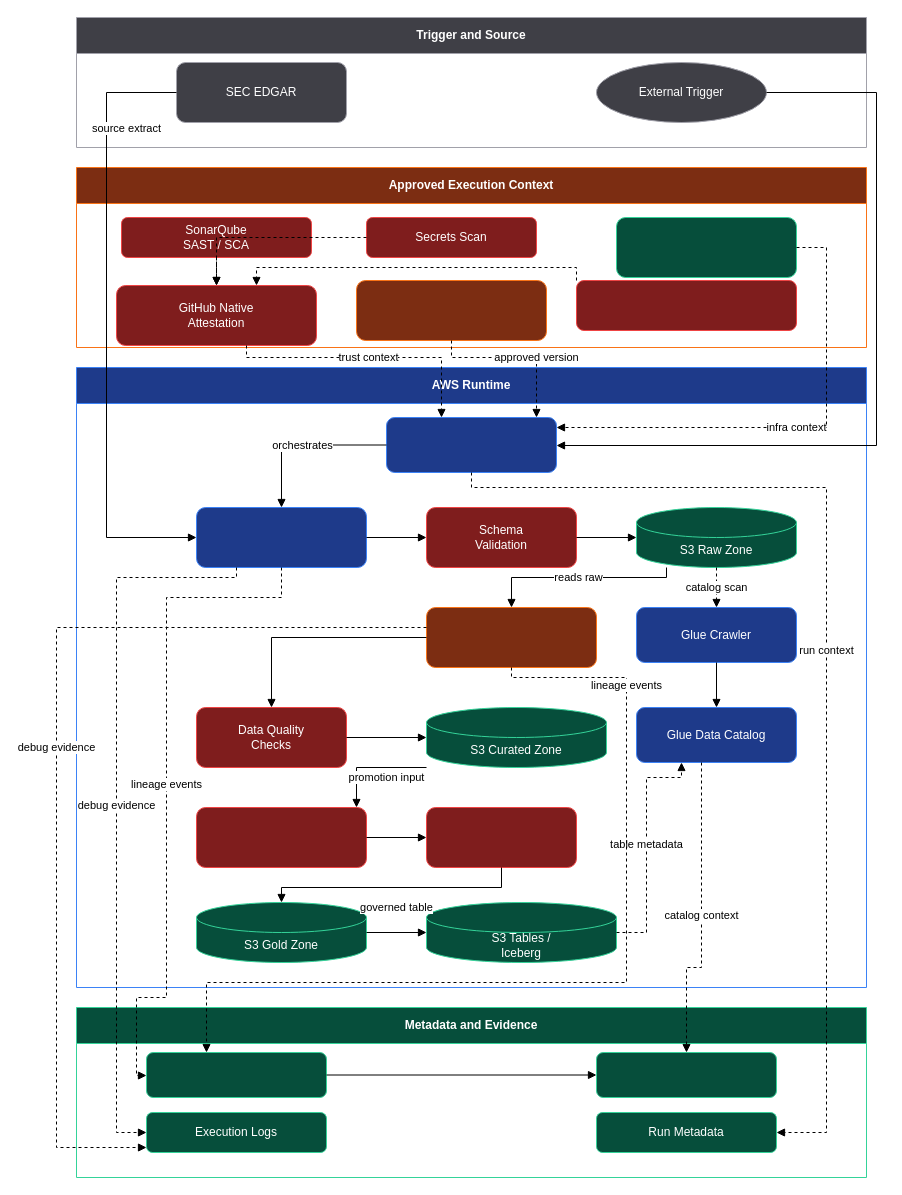
Image size: 902x1195. Some labels were removed from this diagram. The centre of each missing label's shape, as x and y in pixels:
"Approved Workflow Artifact" belongs at point (451, 310).
"Data Contract Validation" belongs at point (281, 837).
"Glue Ingestion Job" belongs at point (281, 537).
"Glue Transform Job" belongs at point (511, 637).
"MWAA" belongs at point (471, 444).
"OpenLineage" belongs at point (236, 1075).
"OpenMetadata" belongs at point (686, 1075).
"Policy-as-Code + OPA Validation" belongs at point (686, 305).
"Promotion Gate" belongs at point (501, 837).
"Terraform State Version" belongs at point (706, 247).
